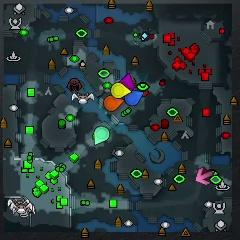p1: (124, 90, 143, 105)
p2: (94, 126, 110, 146)
p3: (120, 72, 134, 91)
p4: (111, 82, 131, 98)
p5: (103, 96, 124, 111)
x1: (195, 168, 212, 185)
